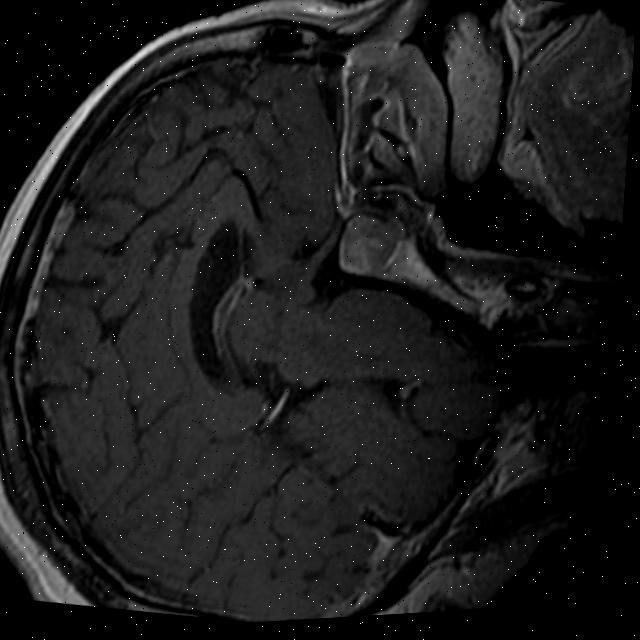Pituitary: (332, 207, 410, 282)
